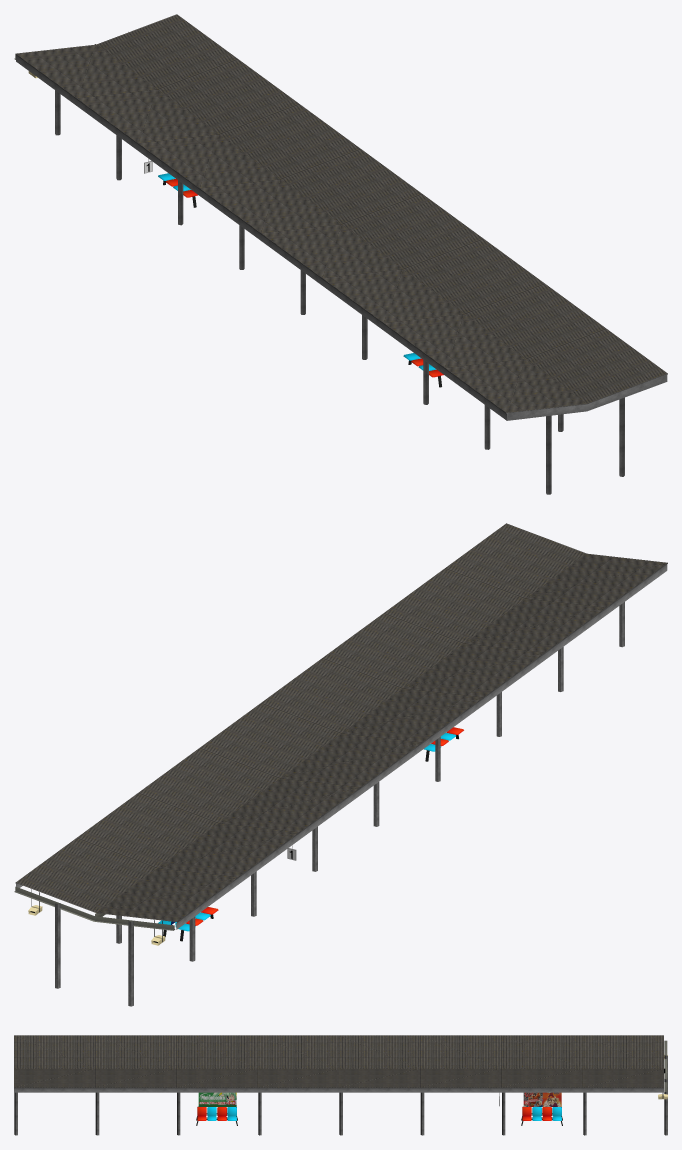
Rendered from AMB_HOME_YANE3_CENTER.glb.
3 views of the same model, one above another, from view 1: azimuth 30°, elevation 25°; view 2: azimuth 150°, elevation 25°; view 3: azimuth 270°, elevation 25° (orthographic). The views are drawn at different scales.
Visible parts, largest first — view 1: Mesh5; view 2: Mesh5; view 3: Mesh5, obj22, obj24.
Part boxes in pixels (box(x1,y1,x2,y2)): Mesh5: box(14, 14, 667, 494); Mesh5: box(14, 523, 667, 1006); Mesh5: box(14, 1035, 667, 1135); obj22: box(196, 1092, 237, 1125); obj24: box(521, 1092, 562, 1125).
Bounding box in the file's own units: 19.01 × 10.42 × 101.
Materials: 24 (23 with a texture image).
